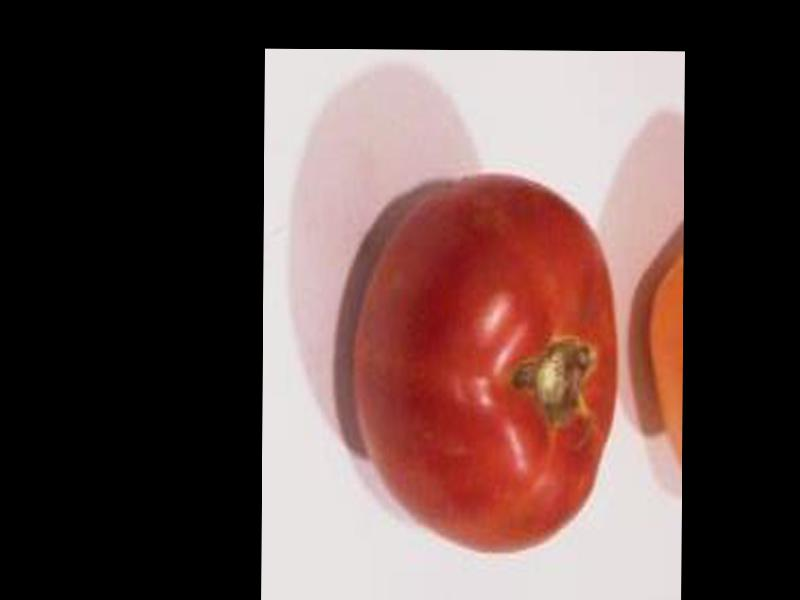Tomato: (355, 177, 616, 554)
